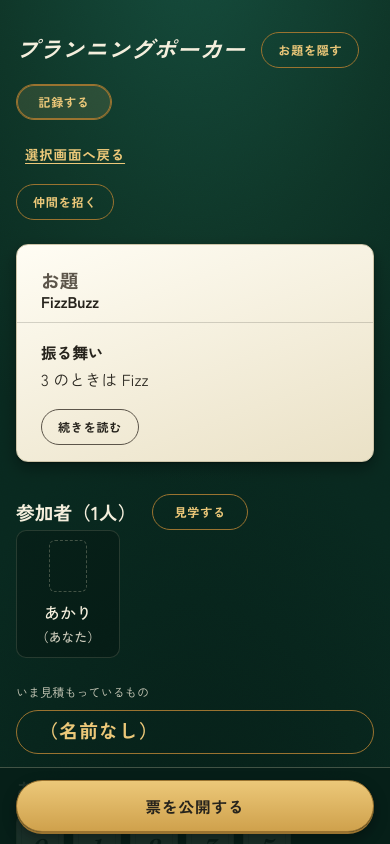
Test case: poker のルーム画面がいまのお題を出す(#91・#316) › Given お題がある / When 「続きを読む」を押す / Then シートが開いて全文が出る
What coordinates should you click on to do the following:
click the button "続きを読む"
I would click on:
 (90, 427)
Its box is x1=41 y1=409 x2=139 y2=445.
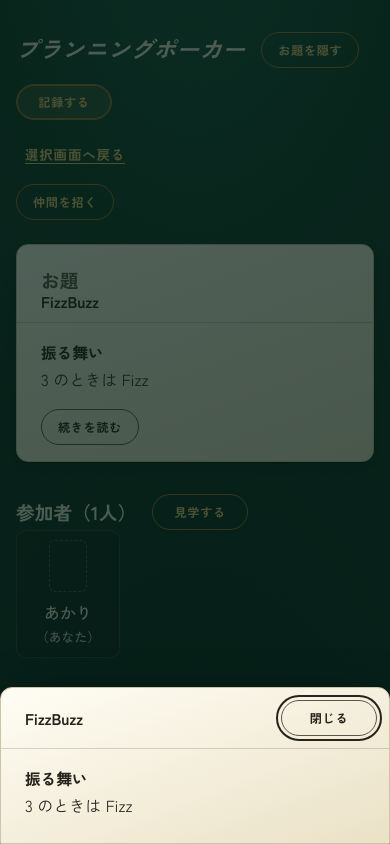
expect the heading "FizzBuzz" is shown: met, box x1=25 y1=709 x2=83 y2=728
expect the element with class "ui-drawer-body" shows "3 のときは Fizz": met, box x1=25 y1=793 x2=132 y2=817
